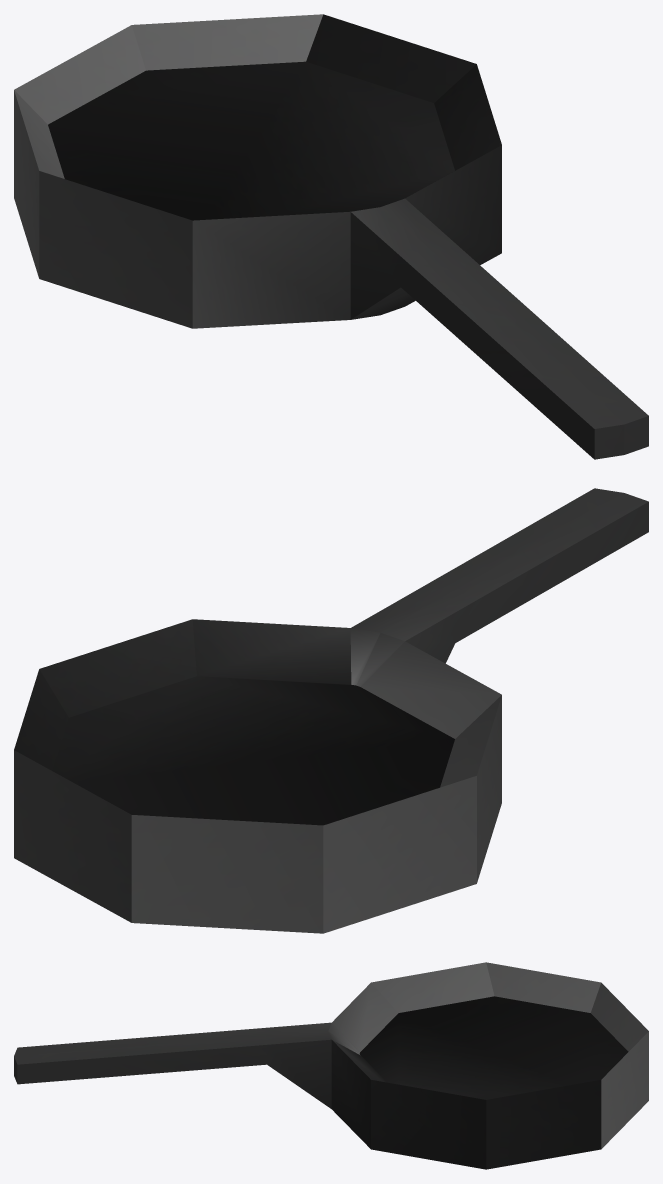
File: pan.glb
3 views of the same model, one above another, from view 1: azimuth 30°, elevation 25°; view 2: azimuth 150°, elevation 25°; view 3: azimuth 270°, elevation 25° (orthographic). The views are drawn at different scales.
Visible parts, largest first — view 1: pan; view 2: pan; view 3: pan.
Boxes of the visible parts, <box> form: pan: <box>14,14,648,459</box>; pan: <box>14,488,648,933</box>; pan: <box>14,962,648,1169</box>.
Size of the model in its own units: 0.5966 by 0.141 by 1.16.
1 material, 1 textured.
